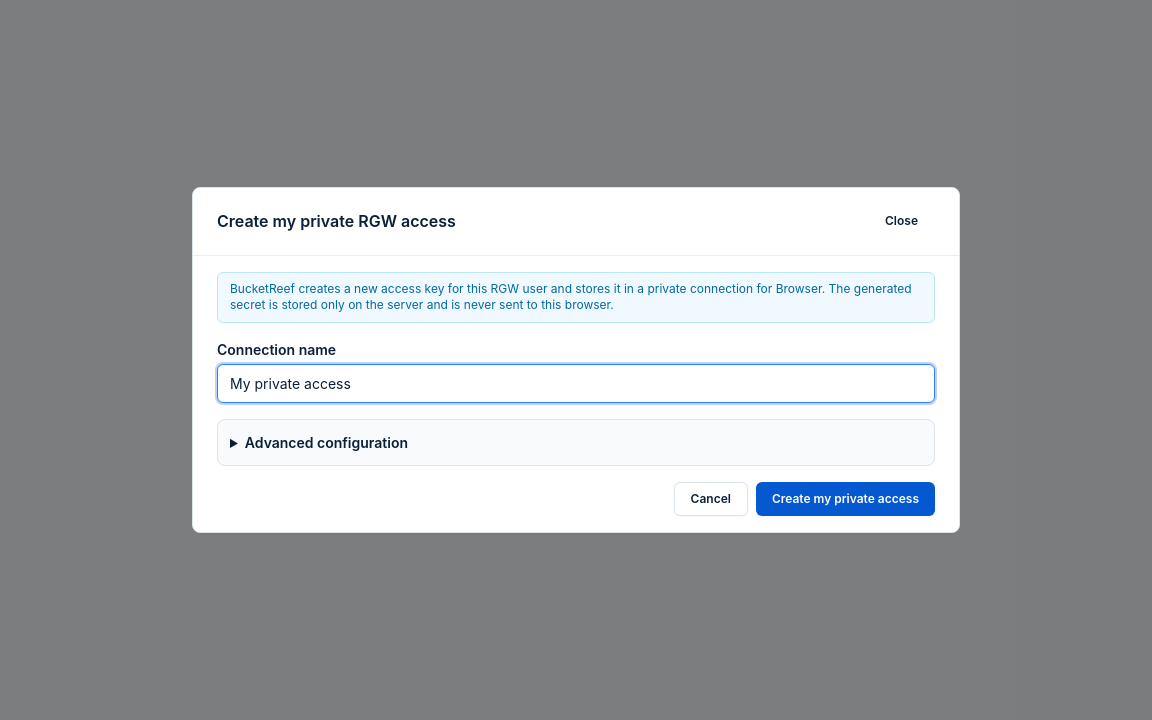
Test: CreateManagedPrivateAccessModal › keeps workspace validation inside the RGW advanced configuration
This screenshot has width=1152, height=720.
Click the heading "Advanced configuration" at coordinates (326, 442), box top-left (245, 434), bottom-right (408, 450)
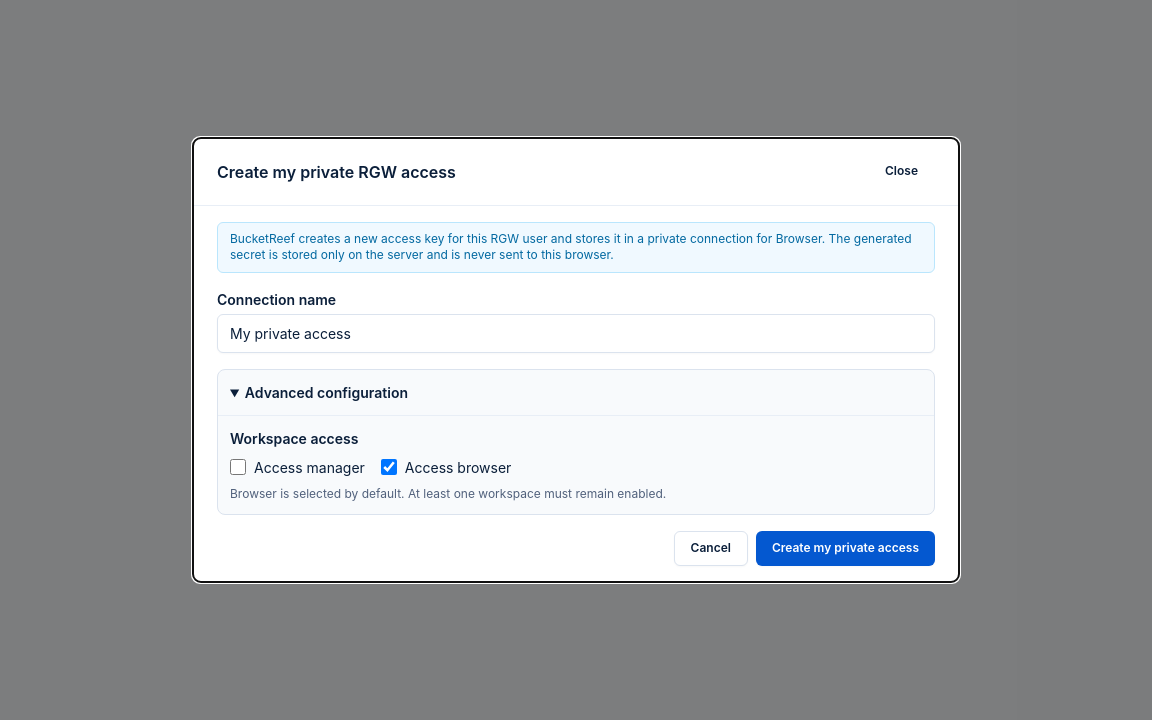
Click the checkbox labelled "Access browser" at coordinates (389, 467), box top-left (381, 459), bottom-right (397, 475)
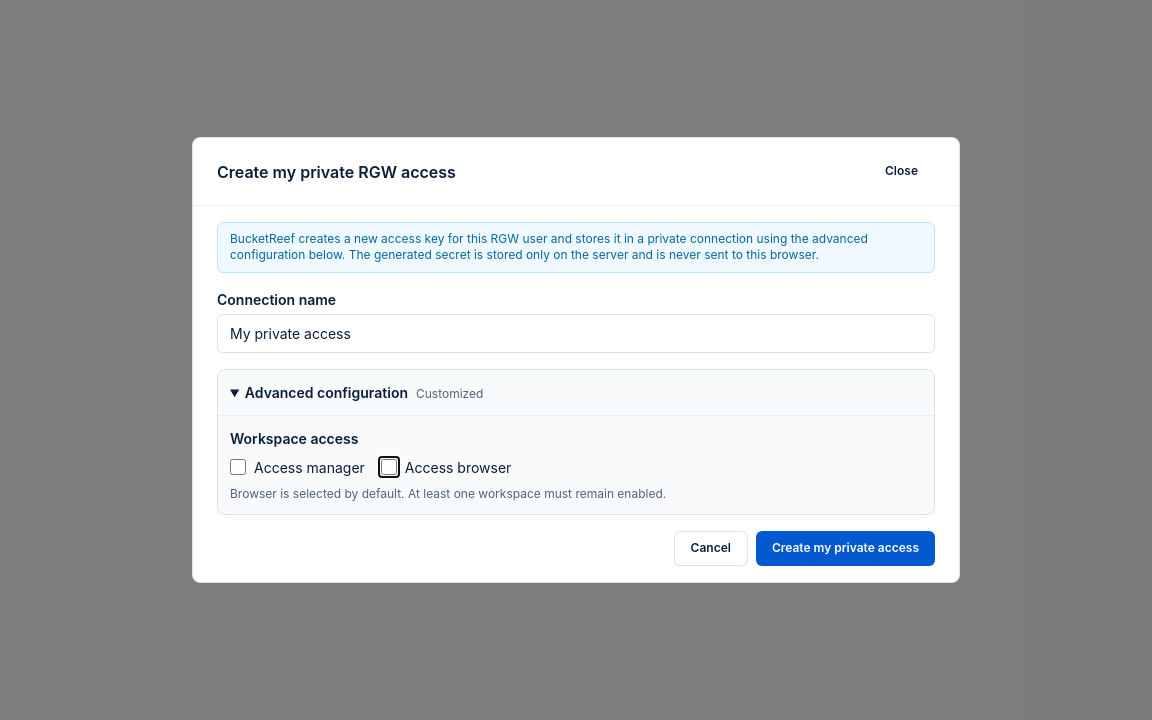
Click the button "Create my private access" at coordinates (845, 549), box top-left (756, 531), bottom-right (935, 566)
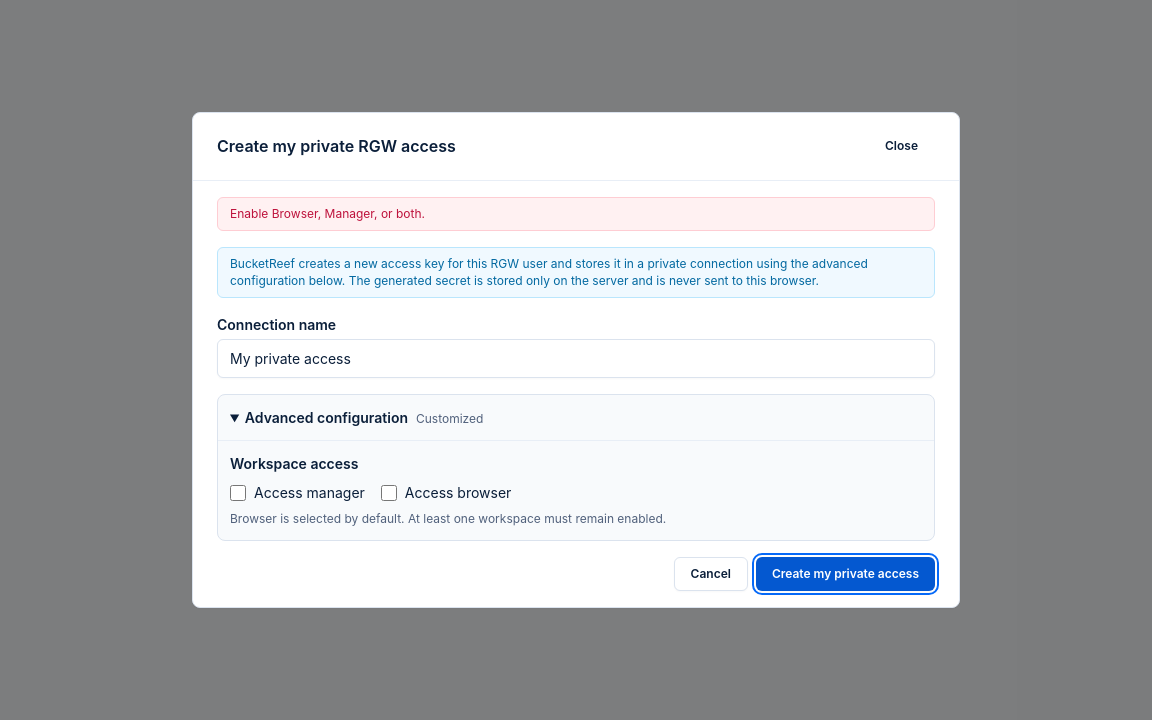
Expected: the message "Enable Browser, Manager, or both." is shown, top-left (217, 196), bottom-right (935, 231)
